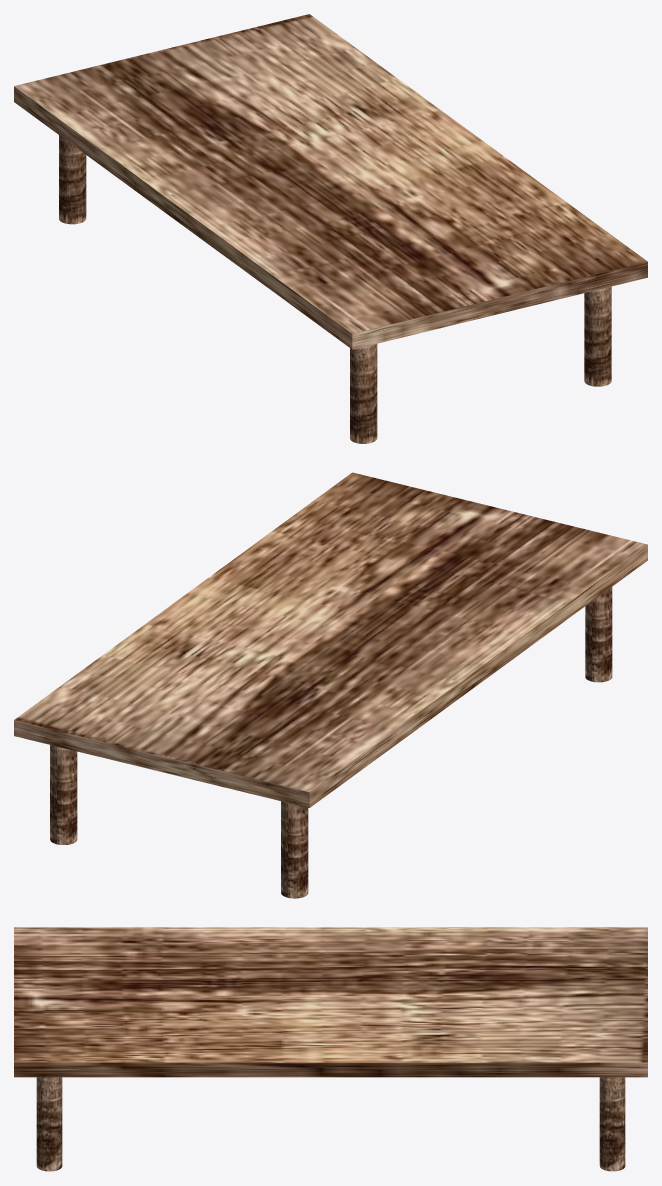
File: bedwood.glb
The picture shows the model from 3 angles, top to bottom: view 1: azimuth 30°, elevation 25°; view 2: azimuth 150°, elevation 25°; view 3: azimuth 270°, elevation 25°; orthographic projection. The views are drawn at different scales.
Visible parts, largest first — view 1: bed-col; view 2: bed-col; view 3: bed-col.
Boxes of the visible parts, bbox=[...] form: bed-col: bbox=[14, 14, 647, 443]; bed-col: bbox=[14, 472, 647, 898]; bed-col: bbox=[14, 927, 647, 1171].
Bounding box in the file's own units: 1 × 0.4061 × 1.98.
Materials: 1 (1 with a texture image).
